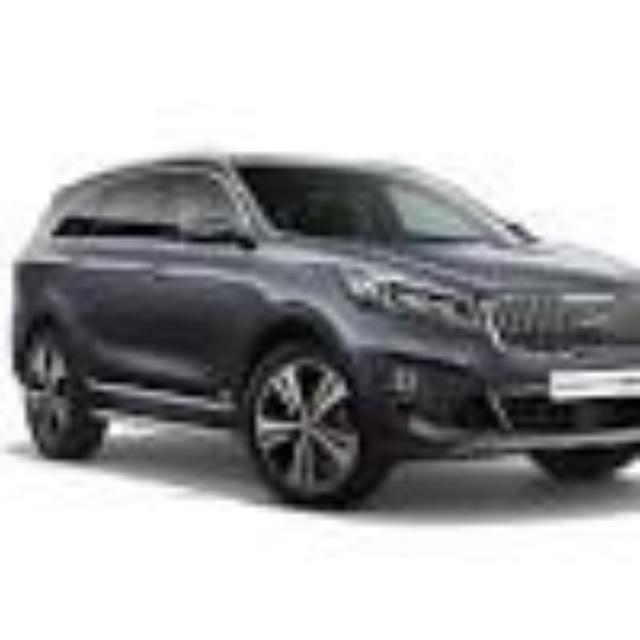kia: (11, 152, 640, 508)
